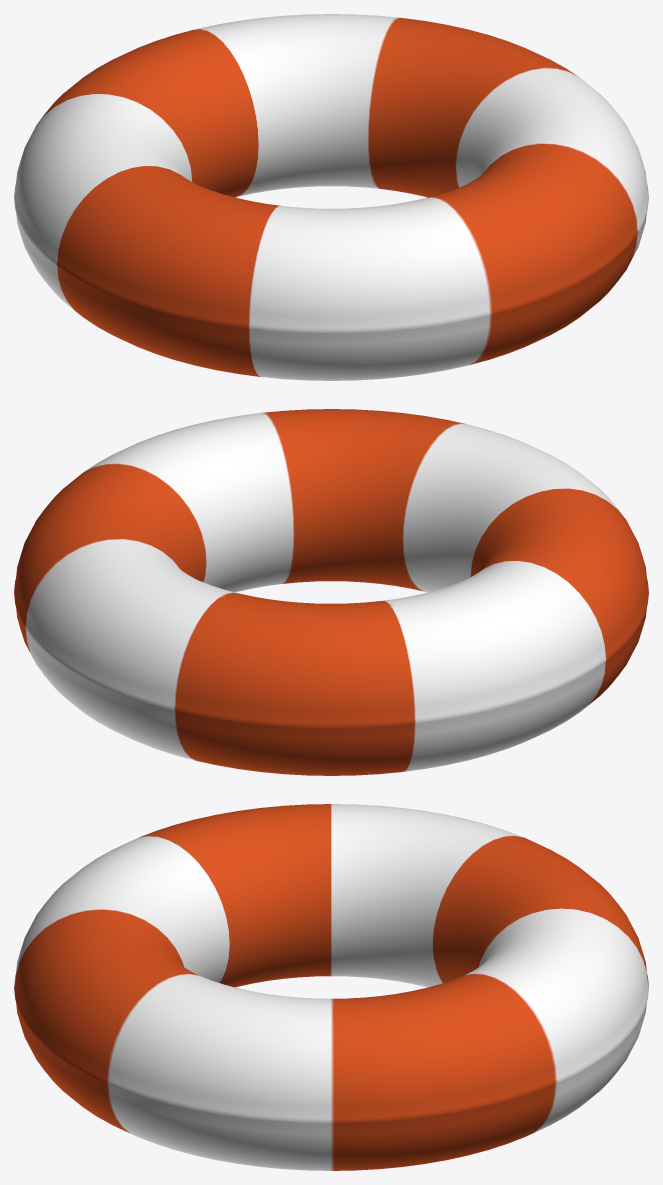
Rendered from SwimRing_L.fbx.
The picture shows the model from 3 angles, top to bottom: view 1: azimuth 30°, elevation 25°; view 2: azimuth 150°, elevation 25°; view 3: azimuth 270°, elevation 25°; orthographic projection.
Parts seen in each view (by area): view 1: SwimRing_L; view 2: SwimRing_L; view 3: SwimRing_L.
Part boxes in pixels (x1,y1,x2,y2): SwimRing_L: [14, 14, 648, 380]; SwimRing_L: [14, 409, 648, 775]; SwimRing_L: [14, 804, 648, 1170].
Bounding box in the file's own units: 1.1 × 0.3 × 1.1.
